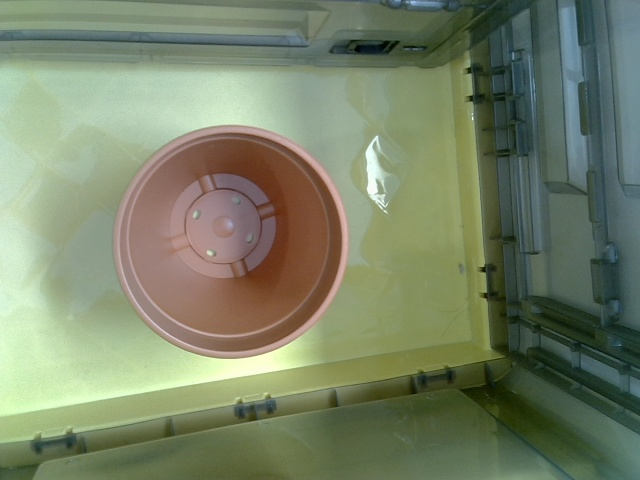화분: (114, 123, 348, 358)
